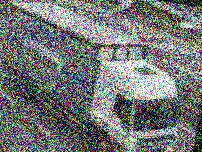truck: (0, 0, 196, 152)
